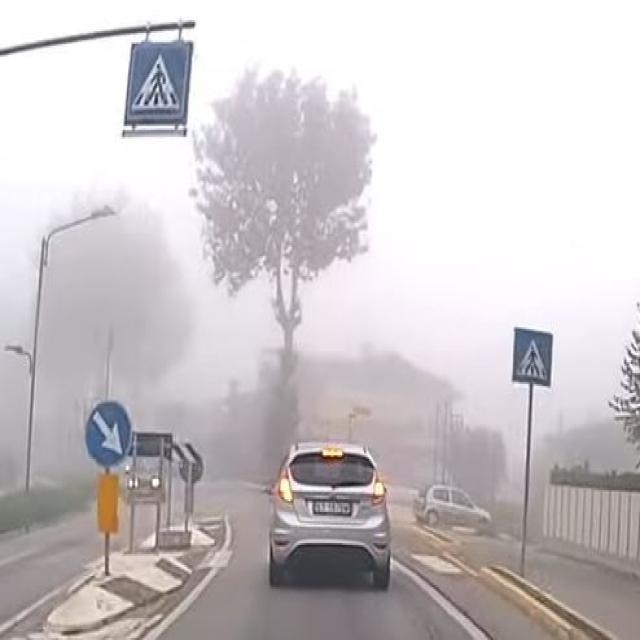Car: (264, 438, 393, 590)
Pedestrian crosswalk: (133, 45, 182, 115), (515, 329, 551, 384)
